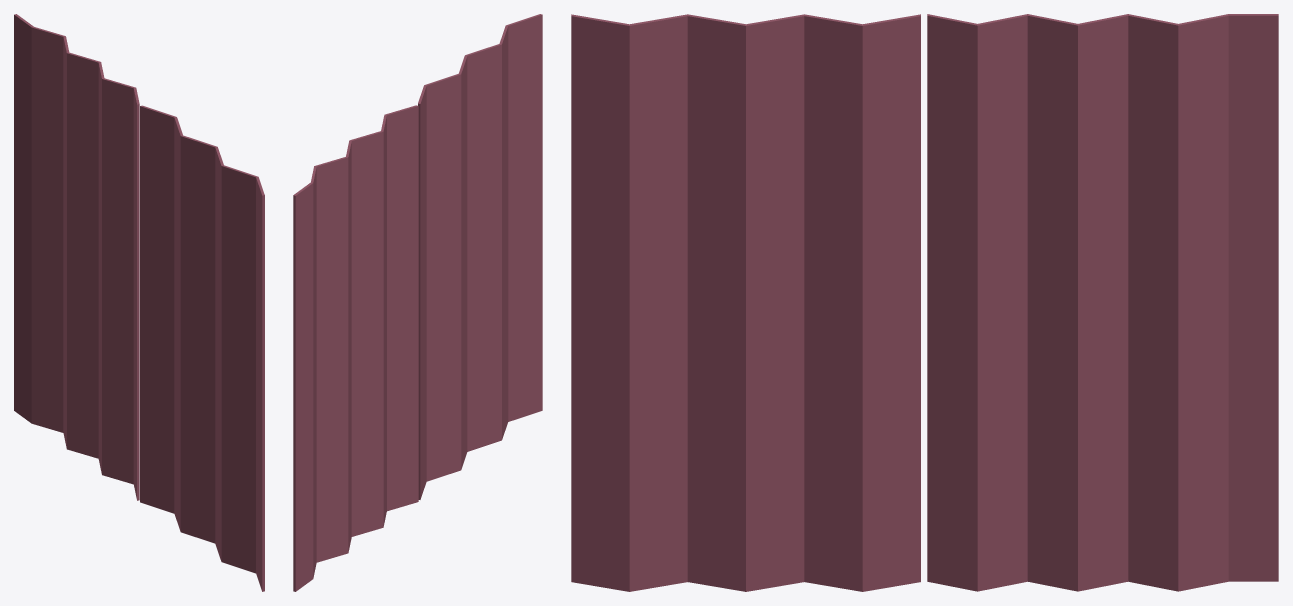
Rendered from cortinas cerradas.fbx.
3 views of the same model, side by side, from view 1: azimuth 30°, elevation 25°; view 2: azimuth 150°, elevation 25°; view 3: azimuth 270°, elevation 25° (orthographic). The views are drawn at different scales.
Parts seen in each view (by area): view 1: cortinascerradas1, cortinascerradas1.001; view 2: cortinascerradas1, cortinascerradas1.001; view 3: cortinascerradas1, cortinascerradas1.001.
Boxes of the visible parts, x1,y1,x2,y2 form: cortinascerradas1: [14, 14, 139, 500]; cortinascerradas1.001: [140, 105, 264, 591]; cortinascerradas1: [293, 105, 418, 591]; cortinascerradas1.001: [418, 14, 542, 499]; cortinascerradas1: [927, 14, 1278, 591]; cortinascerradas1.001: [571, 14, 920, 591].
Size of the model in its own units: 32.68 by 719 by 815.
